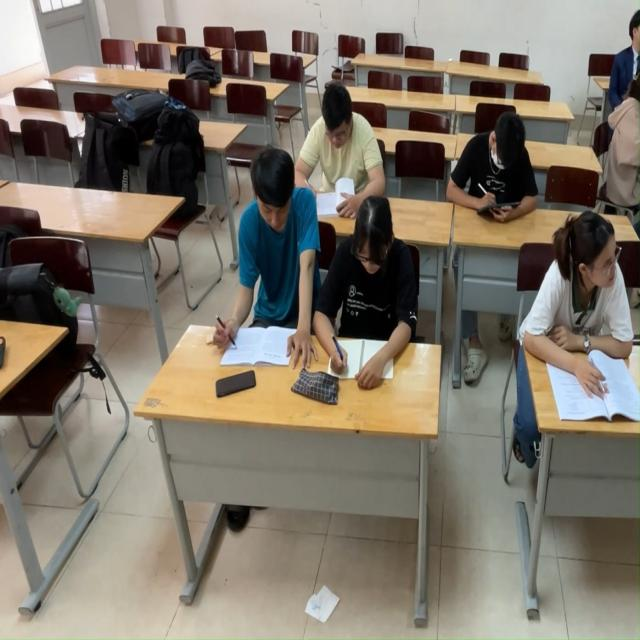read: (211, 141, 321, 372), (319, 207, 425, 383), (441, 108, 548, 231), (303, 86, 367, 216)
